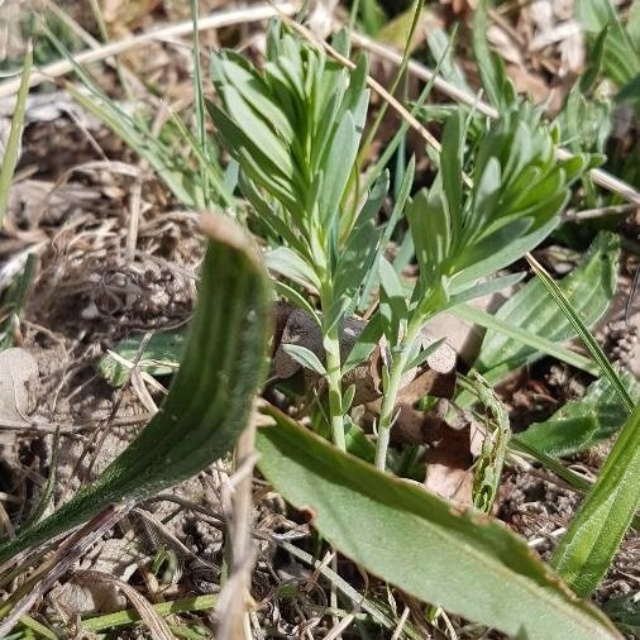obstacle: (128, 35, 596, 578), (221, 48, 562, 471)
